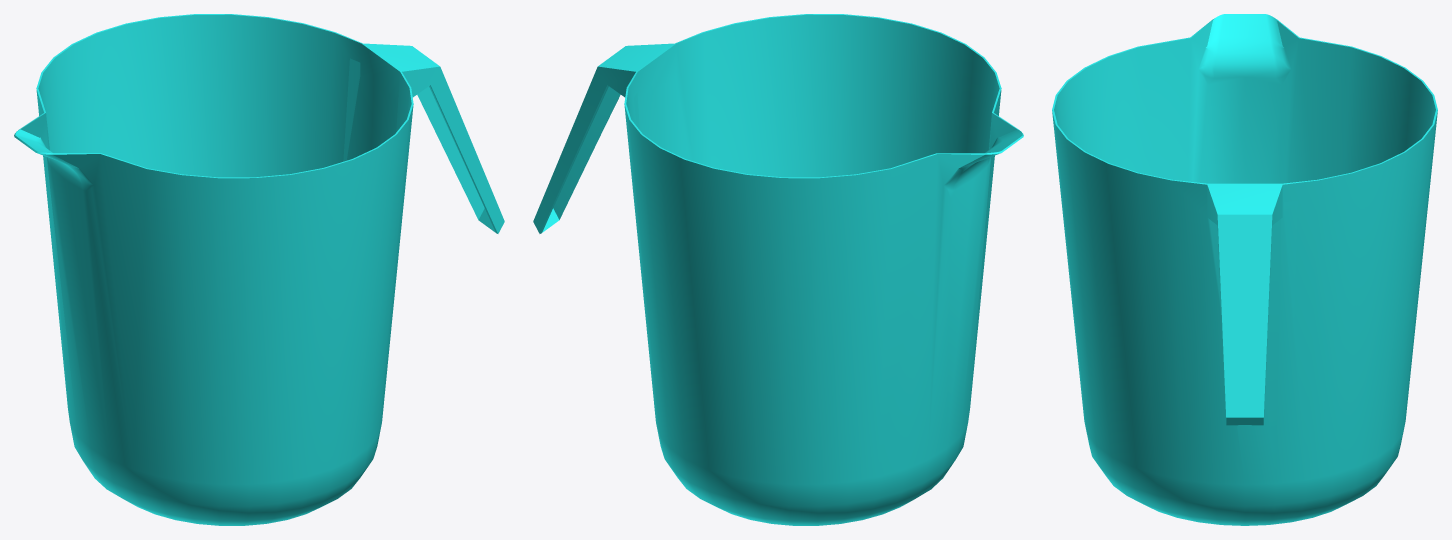
File: mug.glb
3 views of the same model, side by side, from view 1: azimuth 30°, elevation 25°; view 2: azimuth 150°, elevation 25°; view 3: azimuth 270°, elevation 25° (orthographic). The views are drawn at different scales.
Parts seen in each view (by area): view 1: bath_mug; view 2: bath_mug; view 3: bath_mug.
Boxes of the visible parts, left/top/right/bottom form: bath_mug: left=14, top=14, right=504, bottom=525; bath_mug: left=533, top=14, right=1023, bottom=525; bath_mug: left=1052, top=14, right=1437, bottom=525.
Bounding box in the file's own units: 0.1643 × 0.1283 × 0.12.
